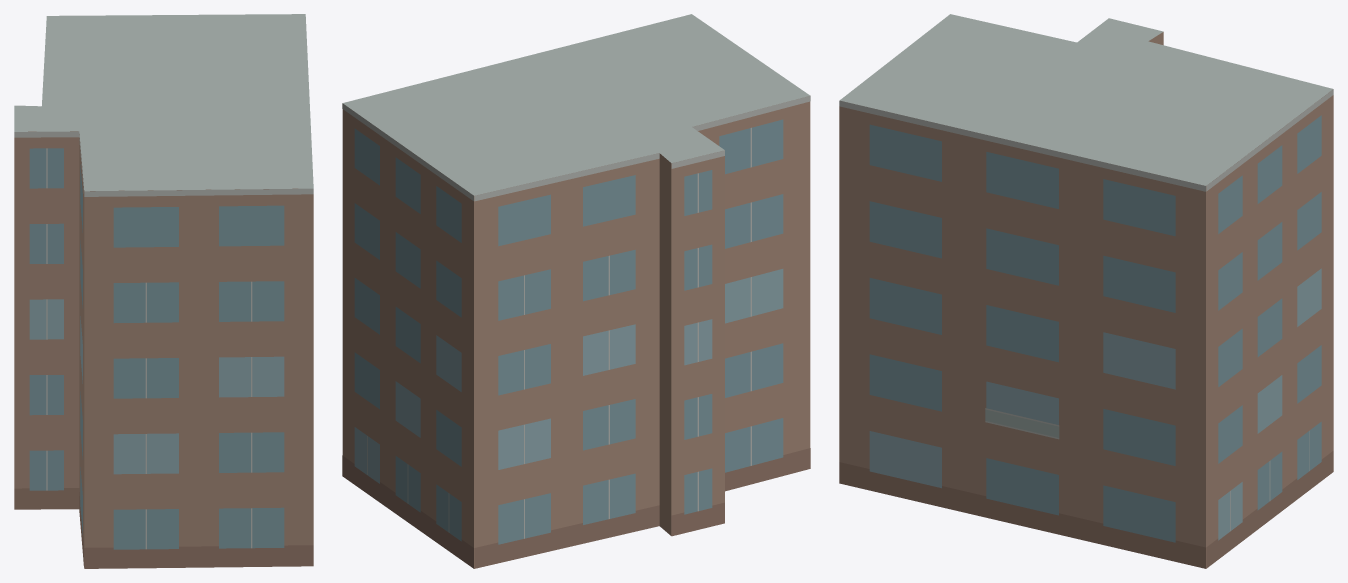
Rendered from survey-upis-32765389.glb.
The picture shows the model from 3 angles, left to right: view 1: azimuth 30°, elevation 25°; view 2: azimuth 150°, elevation 25°; view 3: azimuth 270°, elevation 25°; orthographic projection. The views are drawn at different scales.
Visible parts, largest first — view 1: survey-upis-32765389.tmp; view 2: survey-upis-32765389.tmp; view 3: survey-upis-32765389.tmp.
Boxes of the visible parts, x1=… form: survey-upis-32765389.tmp: x1=14, y1=14, x2=313, y2=568; survey-upis-32765389.tmp: x1=342, y1=14, x2=810, y2=568; survey-upis-32765389.tmp: x1=839, y1=14, x2=1333, y2=568.
Size of the model in its own units: 15.32 by 15.9 by 18.6.
